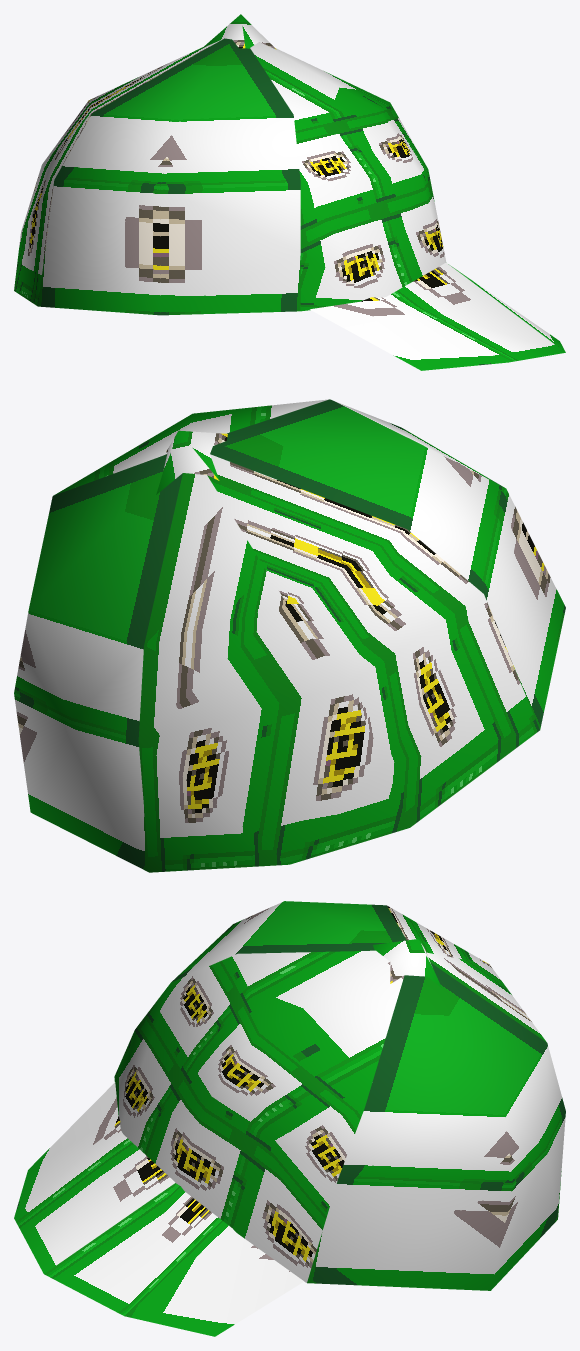
File: code_head24.gltf
The picture shows the model from 3 angles, top to bottom: view 1: azimuth 30°, elevation 25°; view 2: azimuth 150°, elevation 25°; view 3: azimuth 270°, elevation 25°; orthographic projection. The views are drawn at different scales.
Parts seen in each view (by area): view 1: code_head24; view 2: code_head24; view 3: code_head24.
Boxes of the visible parts, x1=… form: code_head24: x1=14, y1=14, x2=565, y2=370; code_head24: x1=14, y1=399, x2=565, y2=872; code_head24: x1=14, y1=901, x2=565, y2=1336.
Bounding box in the file's own units: 0.7251 × 0.4807 × 0.7756.
Materials: 1 (1 with a texture image).
